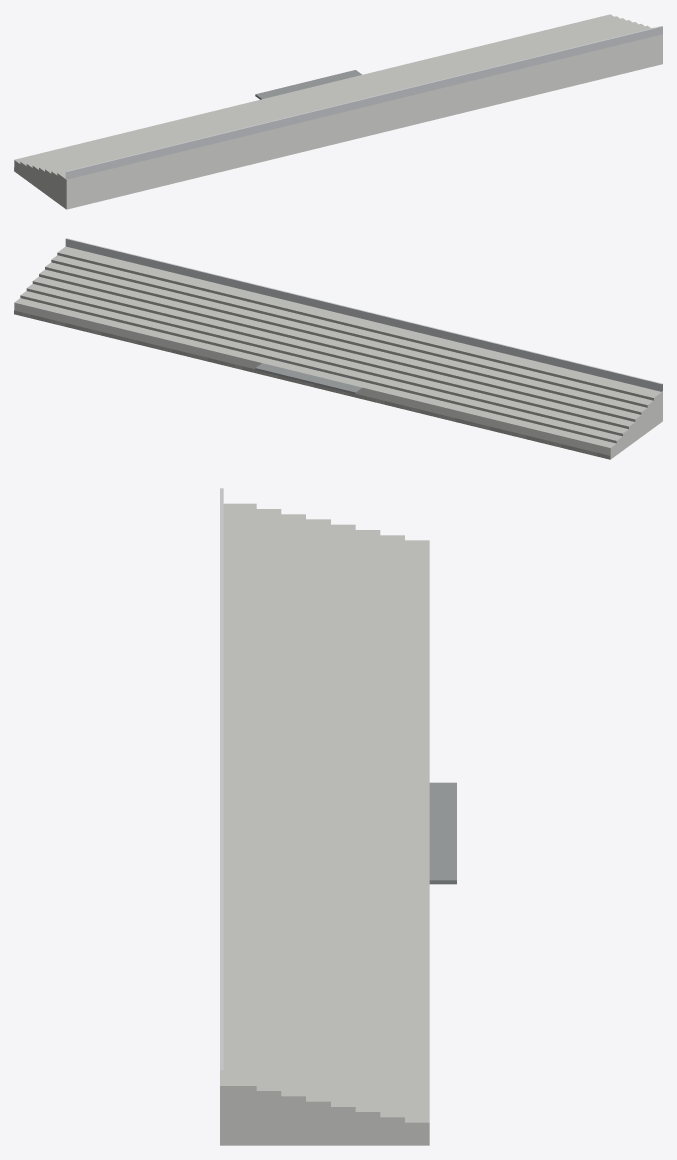
3 renders of one model, top to bottom at view 1: azimuth 30°, elevation 25°; view 2: azimuth 150°, elevation 25°; view 3: azimuth 270°, elevation 25°, orthographic. The views are drawn at different scales.
Visible parts, largest first — view 1: sportsStandE17__wall, sportsStandE17__seat, sportsStandE17__trim, sportsStandE17__canopy; view 2: sportsStandE17__seat, sportsStandE17__seatRiser, sportsStandE17__trim, sportsStandE17__wall, sportsStandE17__base, sportsStandE17__canopy; view 3: sportsStandE17__seat, sportsStandE17__wall, sportsStandE17__canopy, sportsStandE17__trim.
Part boxes in pixels (<box>): sportsStandE17__wall: <box>14,34,662,209</box>; sportsStandE17__seat: <box>14,14,653,179</box>; sportsStandE17__trim: <box>65,26,662,179</box>; sportsStandE17__canopy: <box>255,70,361,99</box>; sportsStandE17__seat: <box>14,246,662,447</box>; sportsStandE17__seatRiser: <box>20,252,653,443</box>; sportsStandE17__trim: <box>65,238,662,391</box>; sportsStandE17__wall: <box>14,302,662,459</box>; sportsStandE17__base: <box>14,310,610,459</box>; sportsStandE17__canopy: <box>255,363,362,394</box>; sportsStandE17__seat: <box>220,503,429,1122</box>; sportsStandE17__wall: <box>220,1086,429,1145</box>; sportsStandE17__canopy: <box>429,782,456,884</box>; sportsStandE17__trim: <box>220,488,223,1070</box>.
Size of the model in its own units: 80.88 by 4.88 by 13.91.
Materials: 8 (1 with a texture image).
